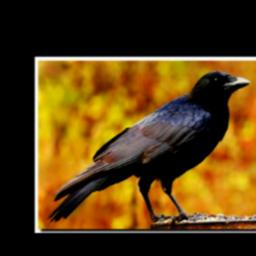Crow: (46, 68, 251, 222)
